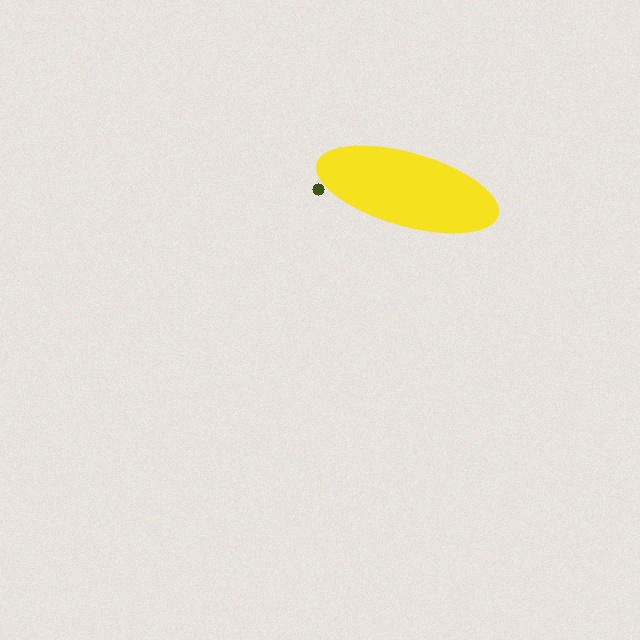Fresh banana: (309, 144, 505, 234)
